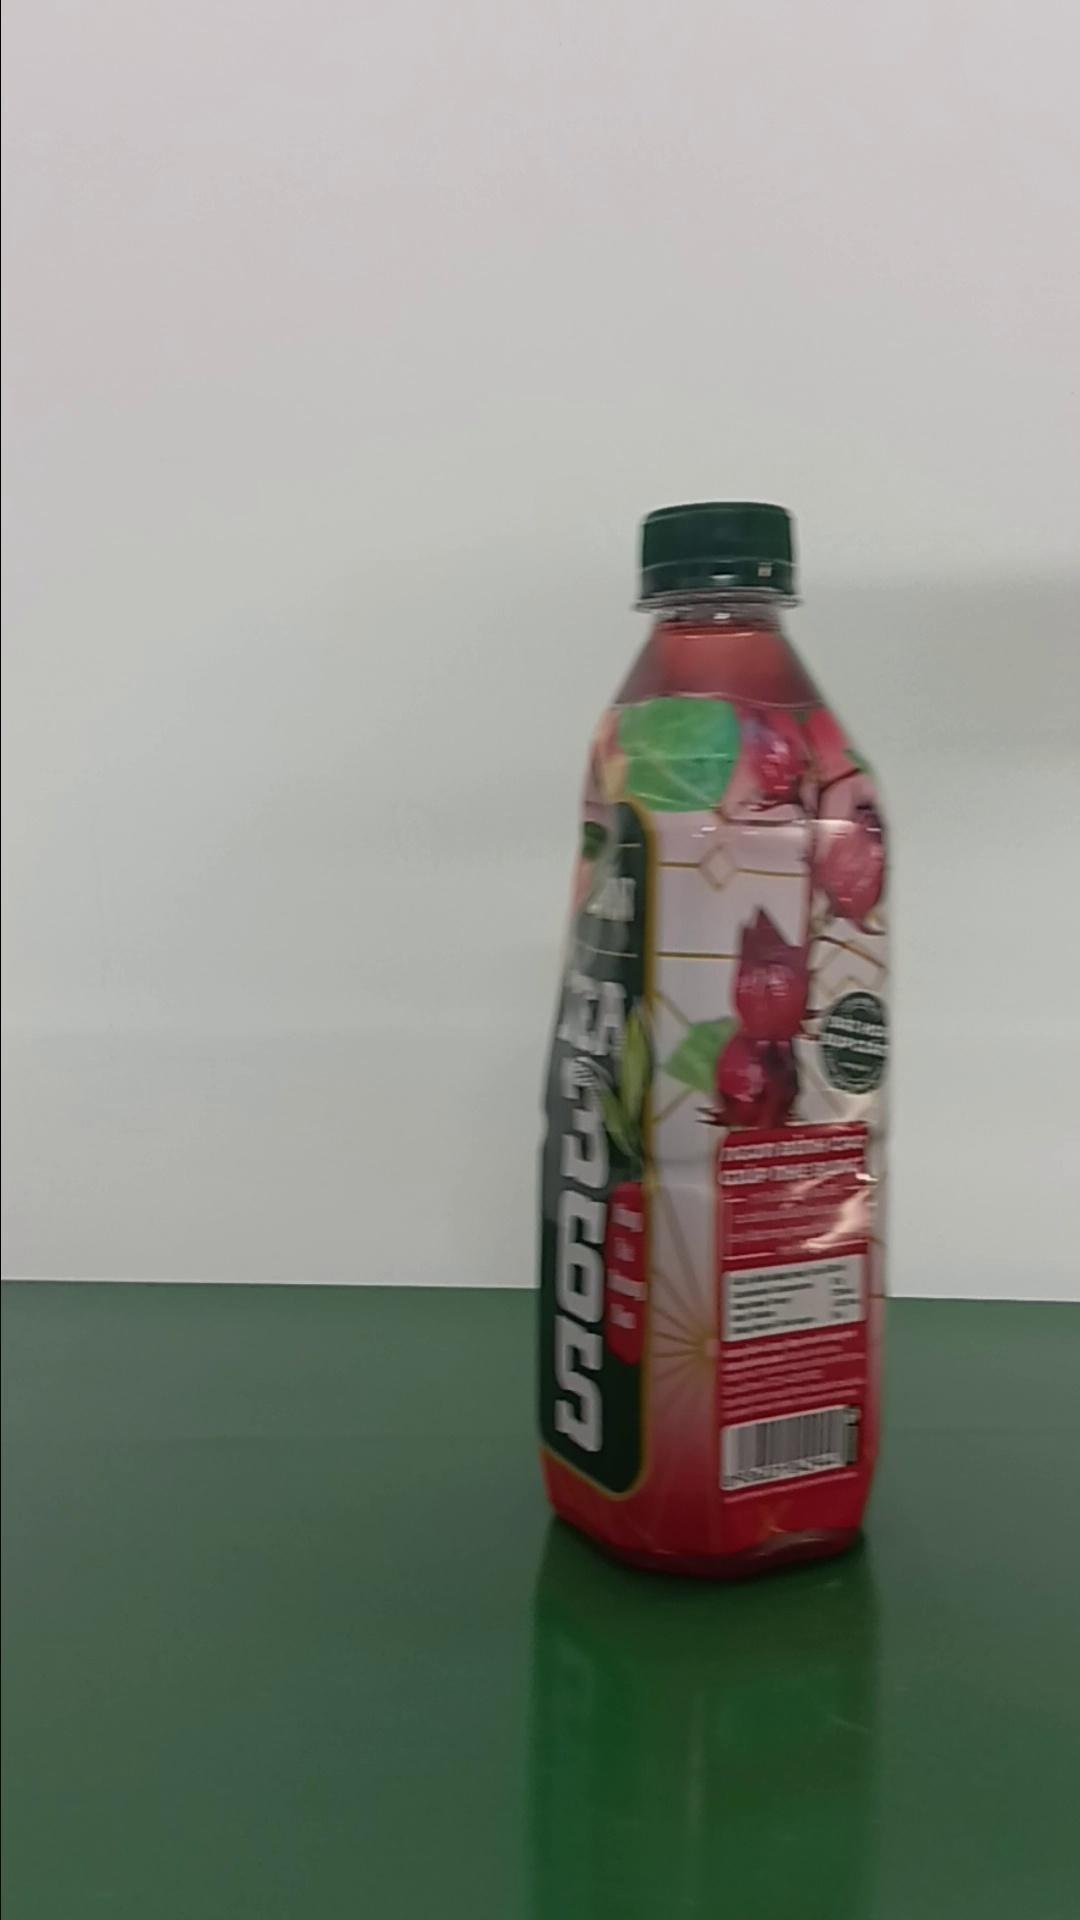loi meo sp: (531, 496, 894, 1580)
